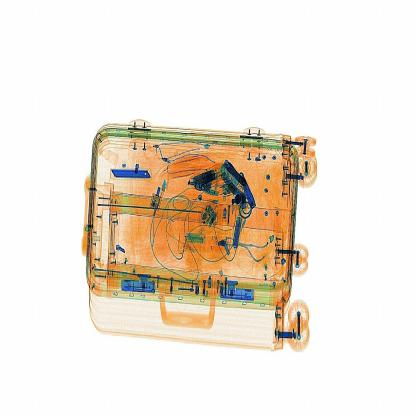pliers: (106, 162, 158, 191)
